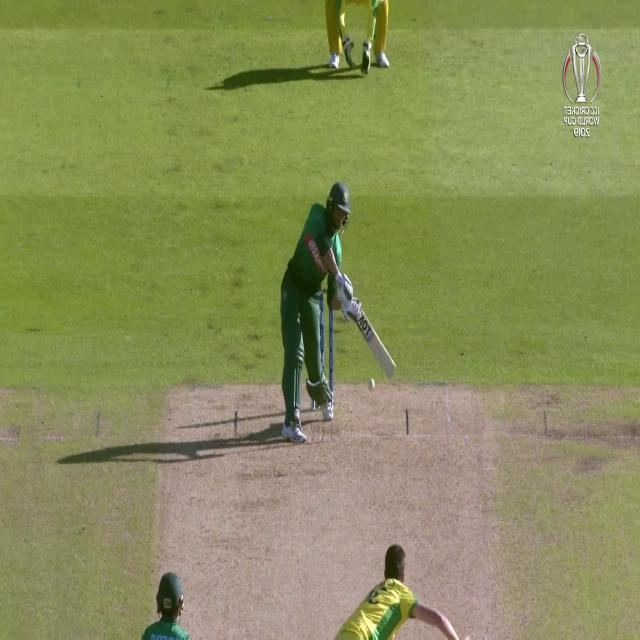ball: (365, 376, 378, 393)
